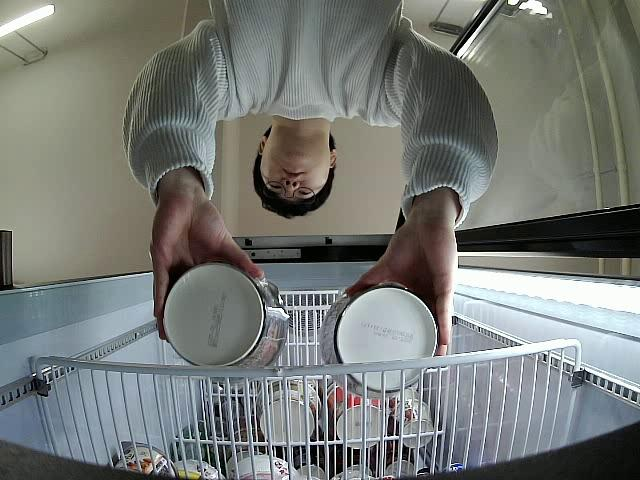00_hand: (148, 200, 264, 339), (345, 223, 458, 356)
07_buldak_L: (161, 260, 289, 370), (319, 284, 438, 396)
